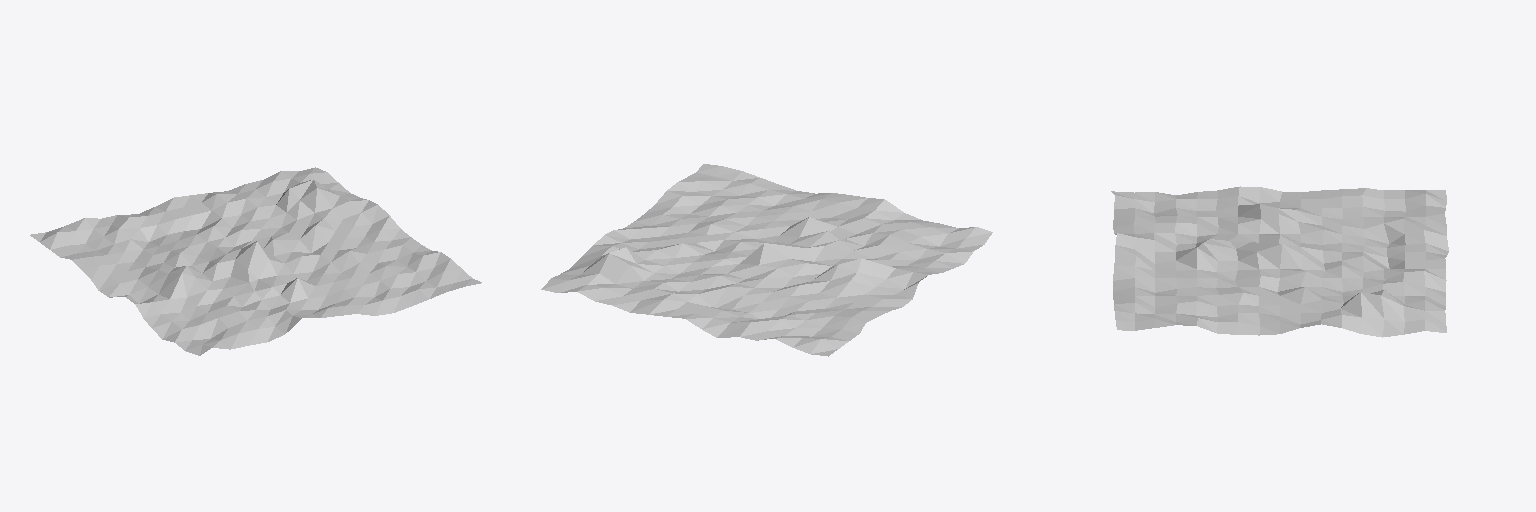
Rendered from lowpoly_terrain.obj.
The picture shows the model from 3 angles: view 1: azimuth 30°, elevation 25°; view 2: azimuth 150°, elevation 25°; view 3: azimuth 270°, elevation 25°; orthographic projection.
Parts seen in each view (by area): view 1: Plane; view 2: Plane; view 3: Plane.
Part boxes in pixels (bbox=[...]): Plane: bbox=[30, 167, 481, 355]; Plane: bbox=[541, 164, 992, 356]; Plane: bbox=[1111, 186, 1448, 337].
Size of the model in its own units: 20.3 by 1.82 by 20.35.